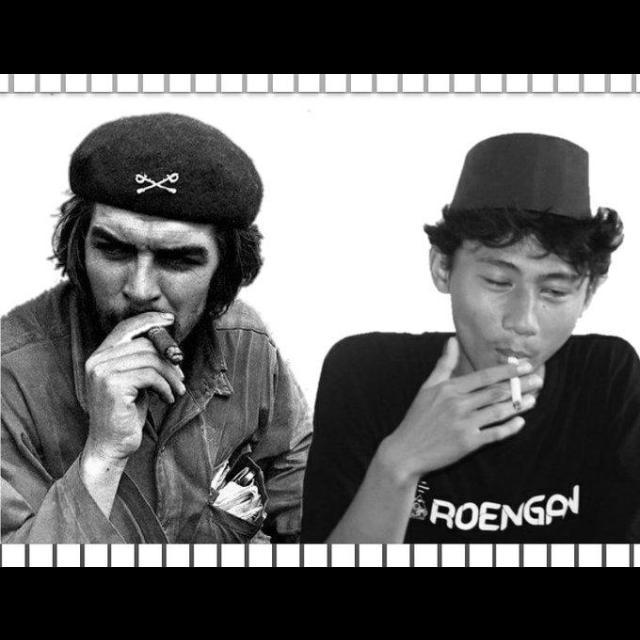rokok: (143, 315, 185, 365), (498, 349, 528, 416)
